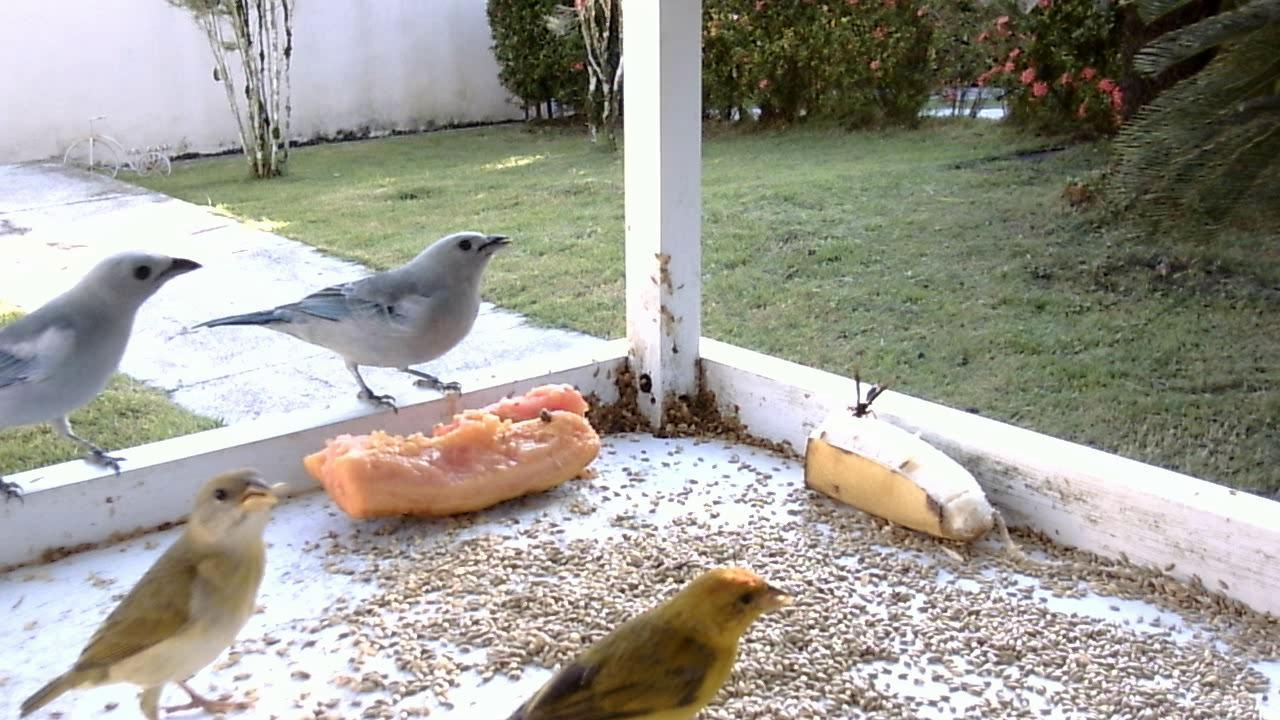canario_do_amazonas: (7, 471, 293, 720), (493, 560, 797, 720)
sanhaco_da_amazonia: (190, 215, 524, 428), (1, 247, 201, 508)
